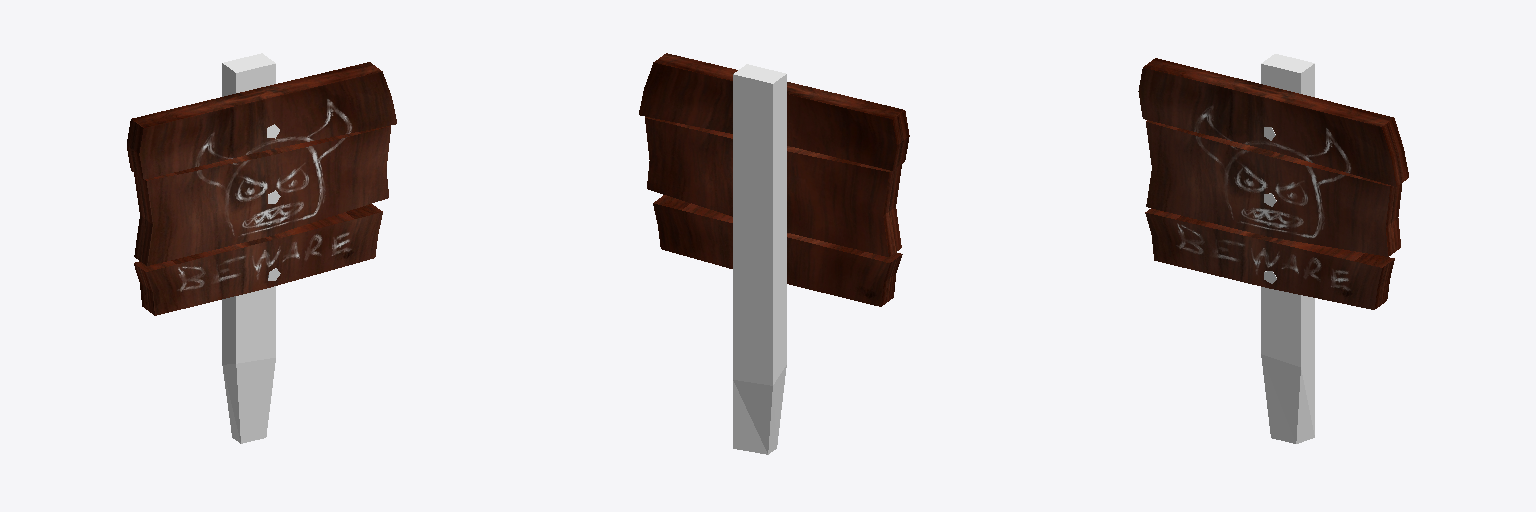
The picture shows the model from 3 angles: view 1: azimuth 30°, elevation 25°; view 2: azimuth 150°, elevation 25°; view 3: azimuth 330°, elevation 25°; orthographic projection.
Parts seen in each view (by area): view 1: Null, Null_1_2, Null_3, Cube_Cube.001; view 2: Cube_Cube.001, Null, Null_1_2, Null_3; view 3: Null, Null_1_2, Null_3, Cube_Cube.001.
Boxes of the visible parts, x1,y1,x2,y2 form: Null: [134, 126, 390, 265]; Null_1_2: [127, 62, 396, 179]; Null_3: [134, 204, 382, 315]; Cube_Cube.001: [222, 53, 275, 443]; Cube_Cube.001: [733, 64, 786, 454]; Null: [645, 117, 901, 256]; Null_1_2: [639, 53, 909, 170]; Null_3: [653, 195, 902, 306]; Null: [1146, 120, 1401, 256]; Null_1_2: [1138, 58, 1408, 186]; Null_3: [1145, 208, 1394, 309]; Cube_Cube.001: [1261, 54, 1314, 443].
Bounding box in the file's own units: 140 × 194 × 26.98.
Materials: 5 (3 with a texture image).